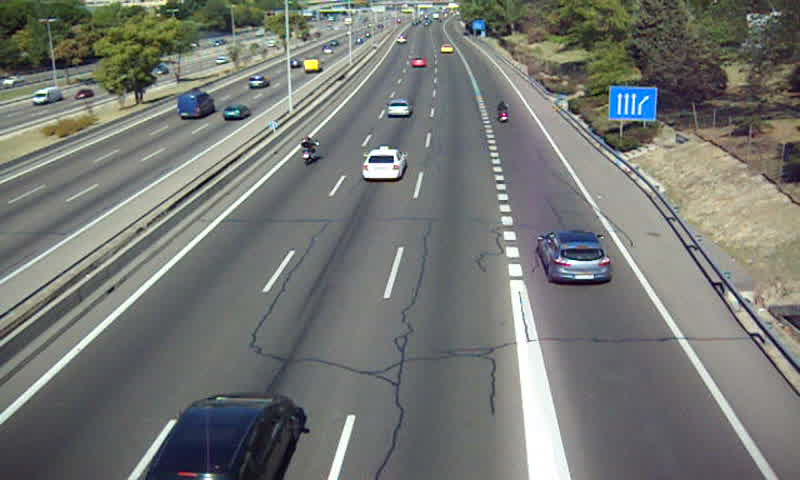car: (146, 394, 297, 480), (538, 231, 611, 282), (362, 148, 406, 179), (385, 98, 411, 117), (411, 56, 429, 69), (440, 43, 454, 54)
motorcycle: (298, 135, 318, 168), (496, 101, 510, 124)
